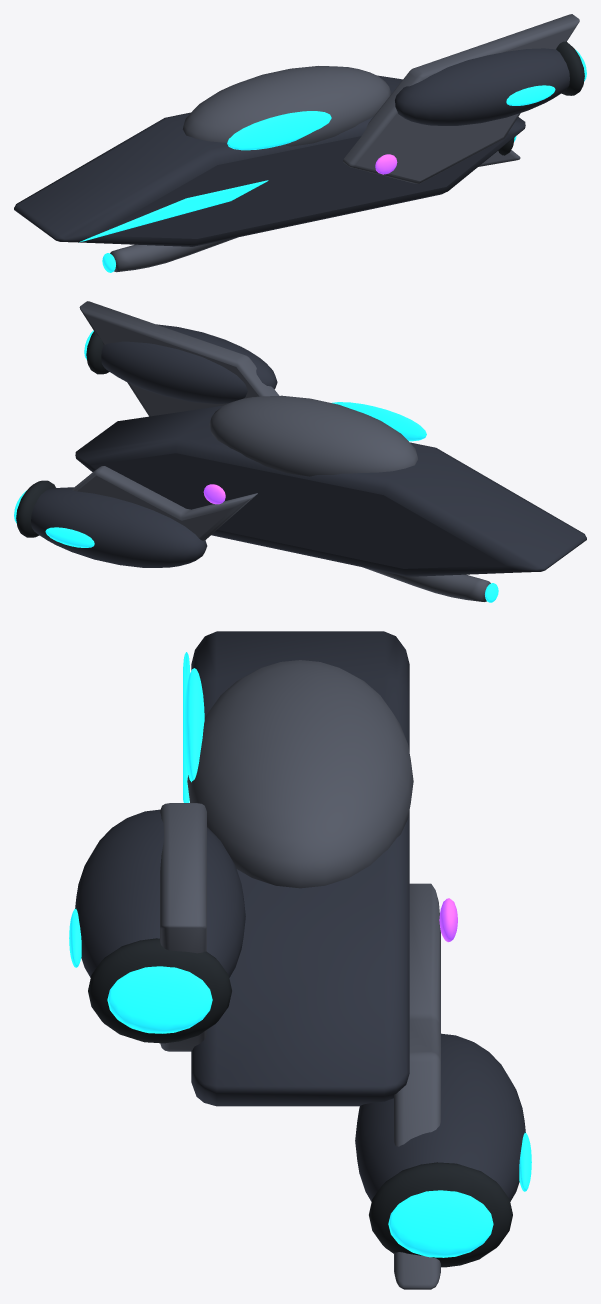
The model's file is alien_needle_interceptor.glb.
3 renders of one model, top to bottom at view 1: azimuth 30°, elevation 25°; view 2: azimuth 150°, elevation 25°; view 3: azimuth 270°, elevation 25°, orthographic. The views are drawn at different scales.
Parts seen in each view (by area): view 1: AlienControlDeviceGeometry; view 2: AlienControlDeviceGeometry; view 3: AlienControlDeviceGeometry.
Boxes of the visible parts, box(x1,y1,x2,y2) form: AlienControlDeviceGeometry: box(14, 14, 586, 272); AlienControlDeviceGeometry: box(14, 301, 586, 602); AlienControlDeviceGeometry: box(69, 631, 531, 1289).
Bounding box in the file's own units: 3.03 × 1.04 × 1.19.
